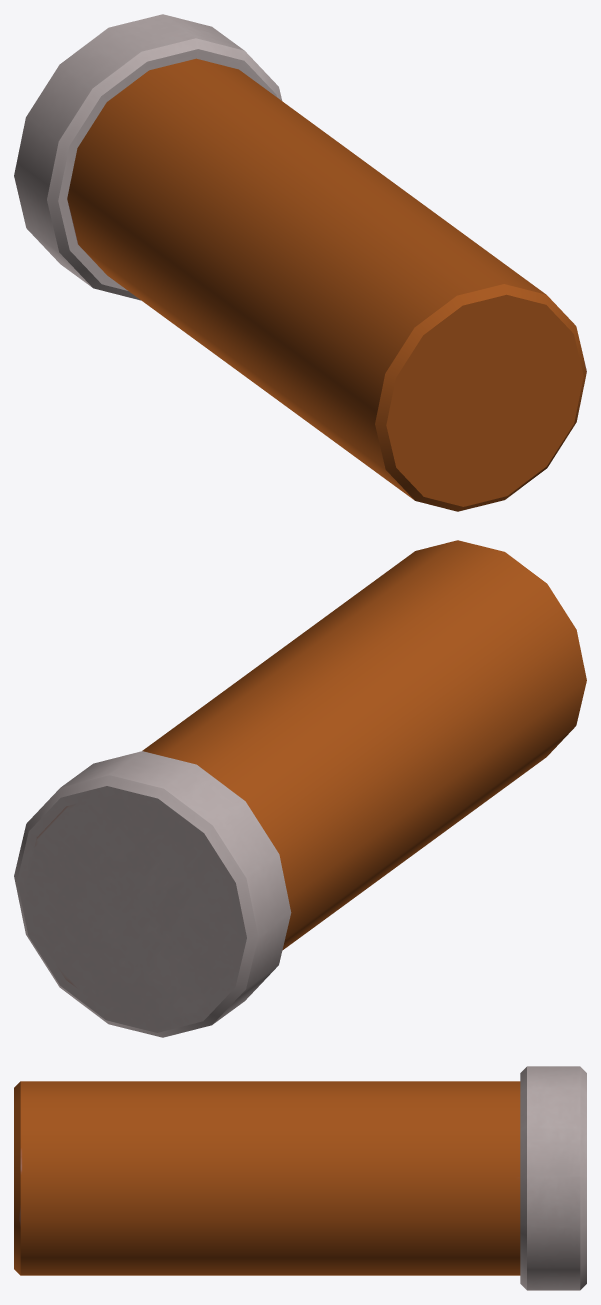
Rendered from Fixed_Item_Pill Bottle_Ver1.fbx.
3 renders of one model, top to bottom at view 1: azimuth 30°, elevation 25°; view 2: azimuth 150°, elevation 25°; view 3: azimuth 270°, elevation 25°, orthographic. The views are drawn at different scales.
Parts seen in each view (by area): view 1: Pill Bottle_body, Pill Bottle_cap; view 2: Pill Bottle_body, Pill Bottle_cap; view 3: Pill Bottle_body, Pill Bottle_cap.
Boxes of the visible parts, x1=… form: Pill Bottle_body: x1=58, y1=49, x2=586, y2=511; Pill Bottle_cap: x1=14, y1=14, x2=282, y2=300; Pill Bottle_body: x1=142, y1=540, x2=586, y2=950; Pill Bottle_cap: x1=14, y1=751, x2=291, y2=1037; Pill Bottle_body: x1=14, y1=1081, x2=520, y2=1275; Pill Bottle_cap: x1=520, y1=1066, x2=586, y2=1290.
Size of the model in its own units: 69.17 by 67.49 by 173.
Materials: 2 (2 with a texture image).
